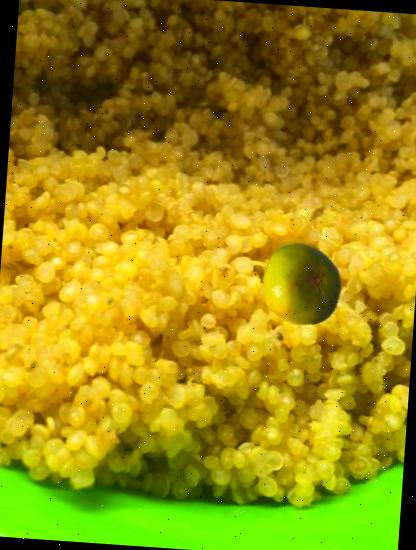Pomelo: (255, 238, 346, 330)
